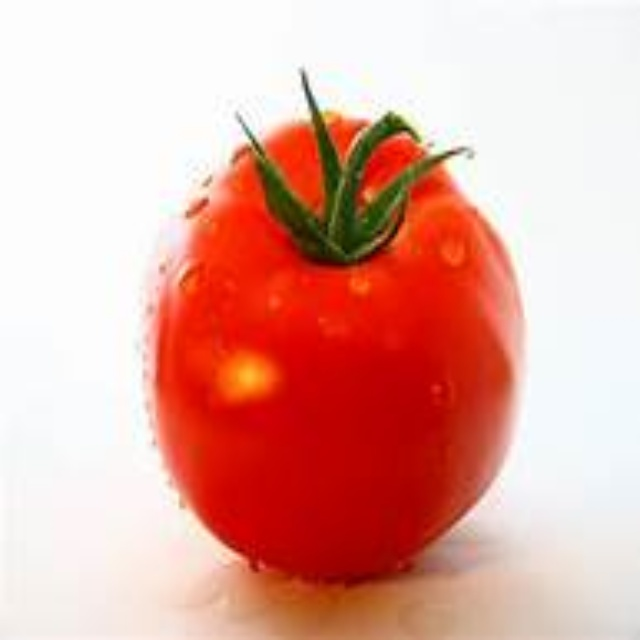tomato: (139, 105, 551, 575)
